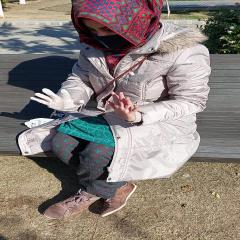gloved: (28, 88, 84, 114)
not-gloved: (104, 92, 137, 120)
